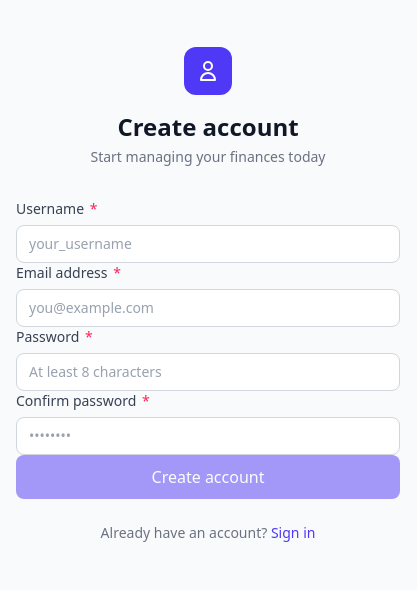
Scenario: RegisterComponent › shows error on registration failure
The image size is (417, 590).
Type "alice" into the field with id "username" at (208, 244), box [16,225,400,263]
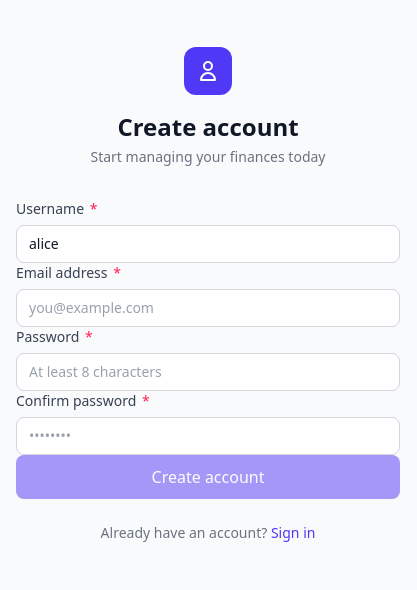
Type "alice@example.com" into the field with id "email" at (208, 308), box [16,289,400,327]
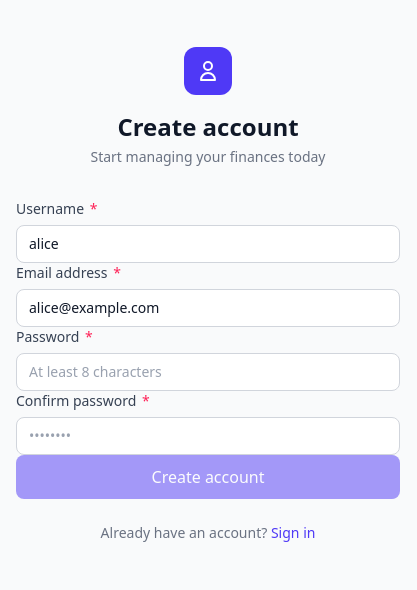
Type "password123" into the password field labelled "Password *" at (208, 372), box [16,353,400,391]
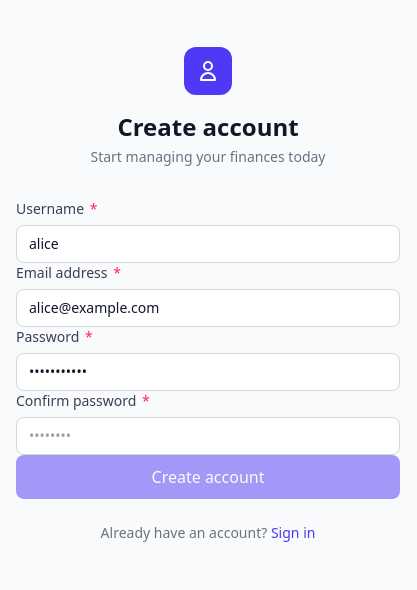
Type "password123" into the password field with id "confirmPassword" at (208, 436), box [16,417,400,455]
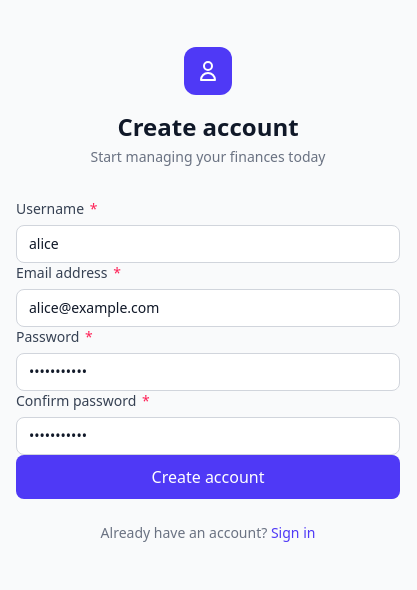
Submit the form, box [16,199,400,499]
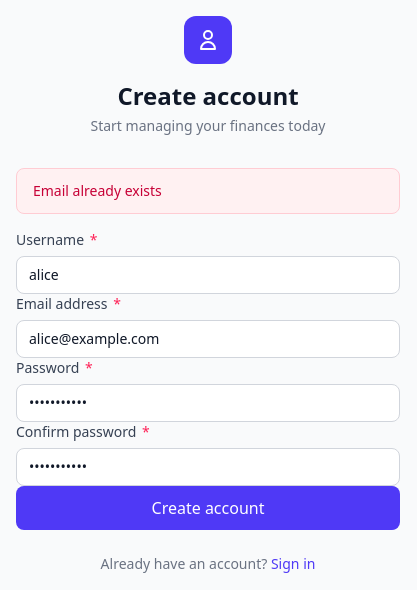
Now the message "Email already exists" is shown, box [16,168,400,214]
